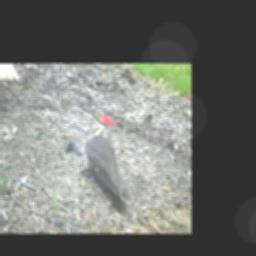Woodpecker: (74, 107, 131, 215)
